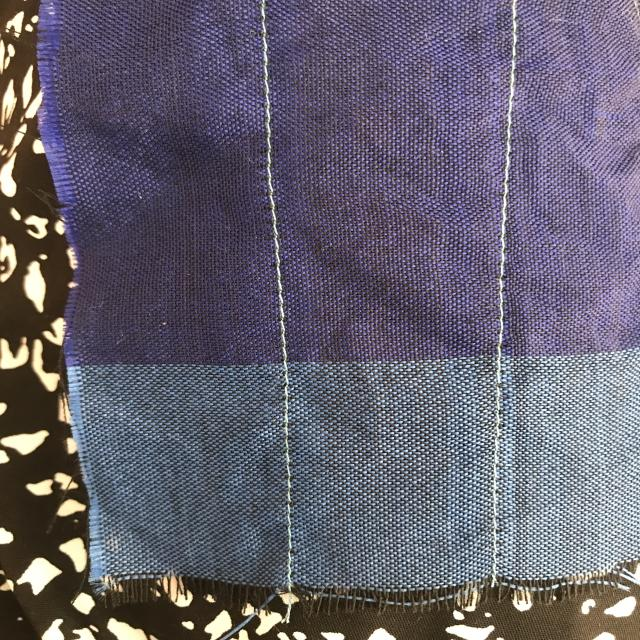good: (252, 202, 299, 348)
